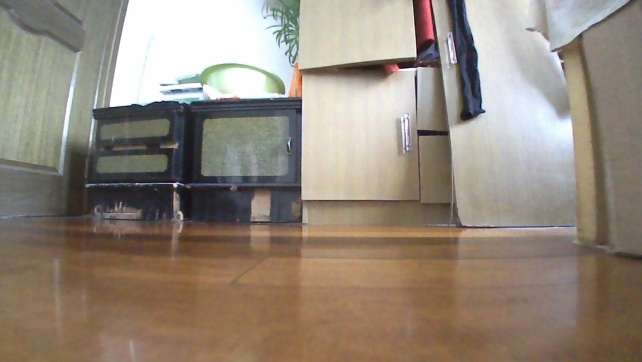cabinet: (79, 92, 308, 226)
door_anno: (0, 0, 130, 222)
